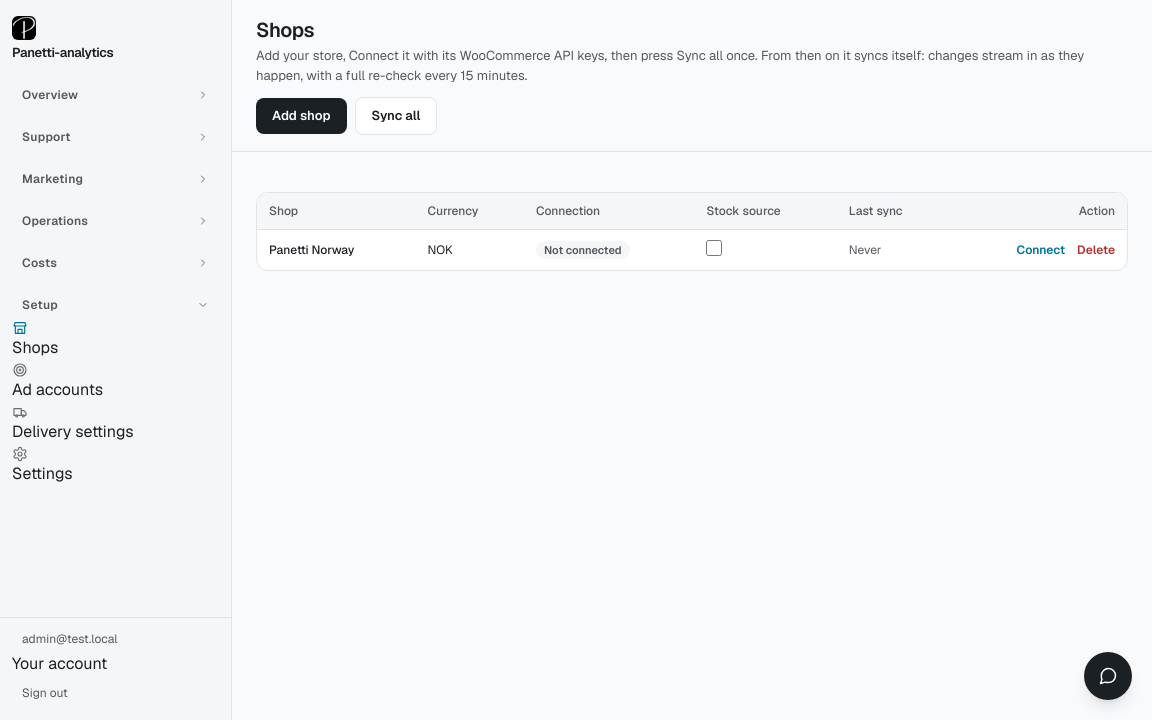
Scenario: ShopsClient › a failed sync says so - never "Synced 0 orders"
This screenshot has width=1152, height=720.
Click the button "Sync all": (396, 116) 354,97 -> 437,134
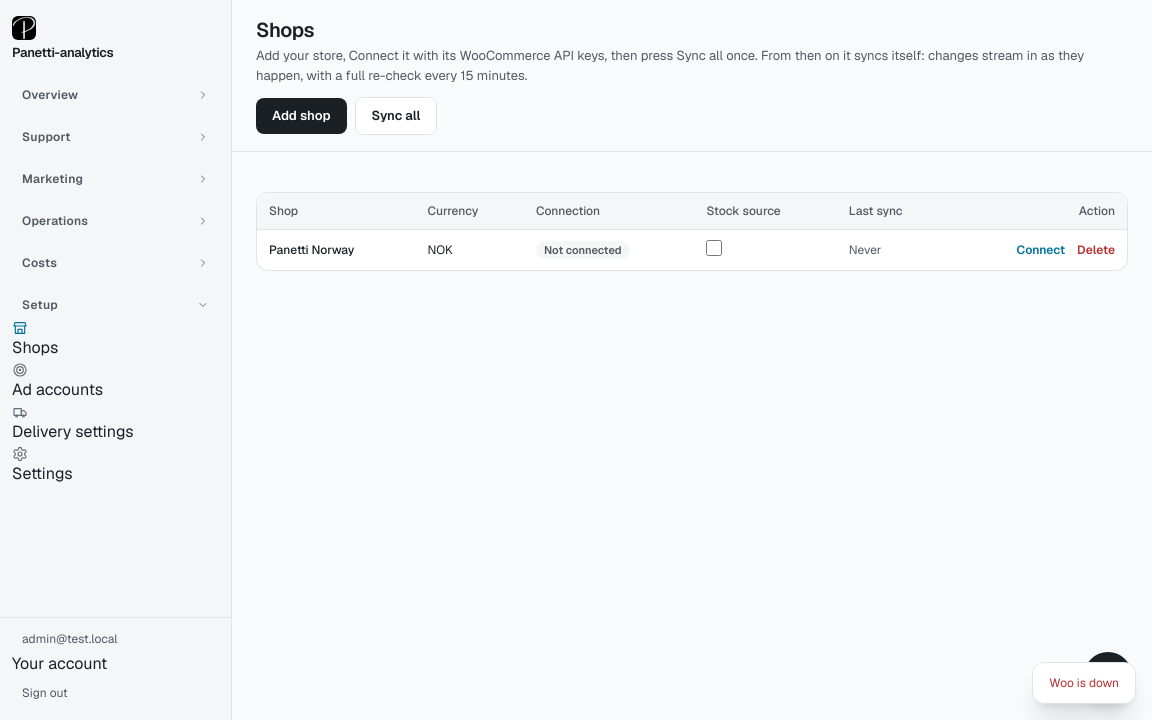
Check: the button "Woo is down" is shown, box 1032,662 -> 1136,704
